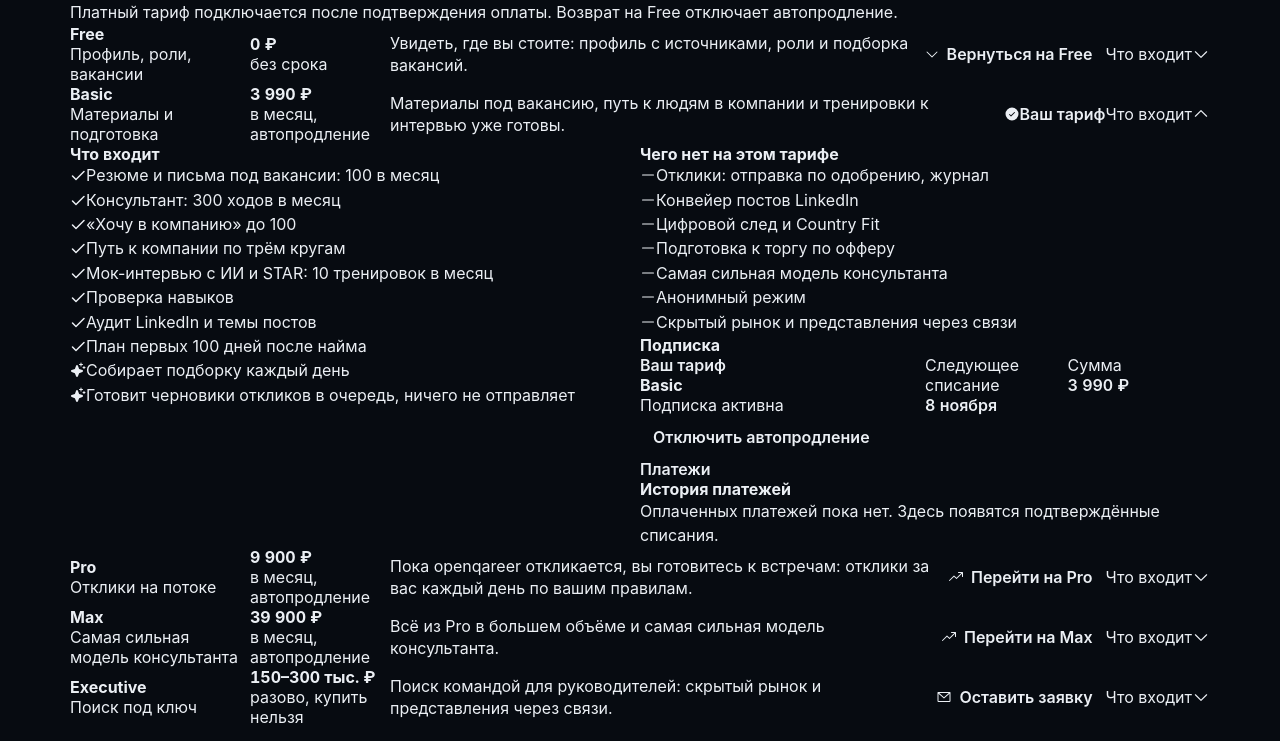
it: TariffsScreen billing management › offers one-click cancellation and keeps access through the paid period
The width and height of the screenshot is (1280, 741).
Step 1. Click the button "Отключить автопродление" → point(761, 437), box [640,415,883,459]
(page scrolled)
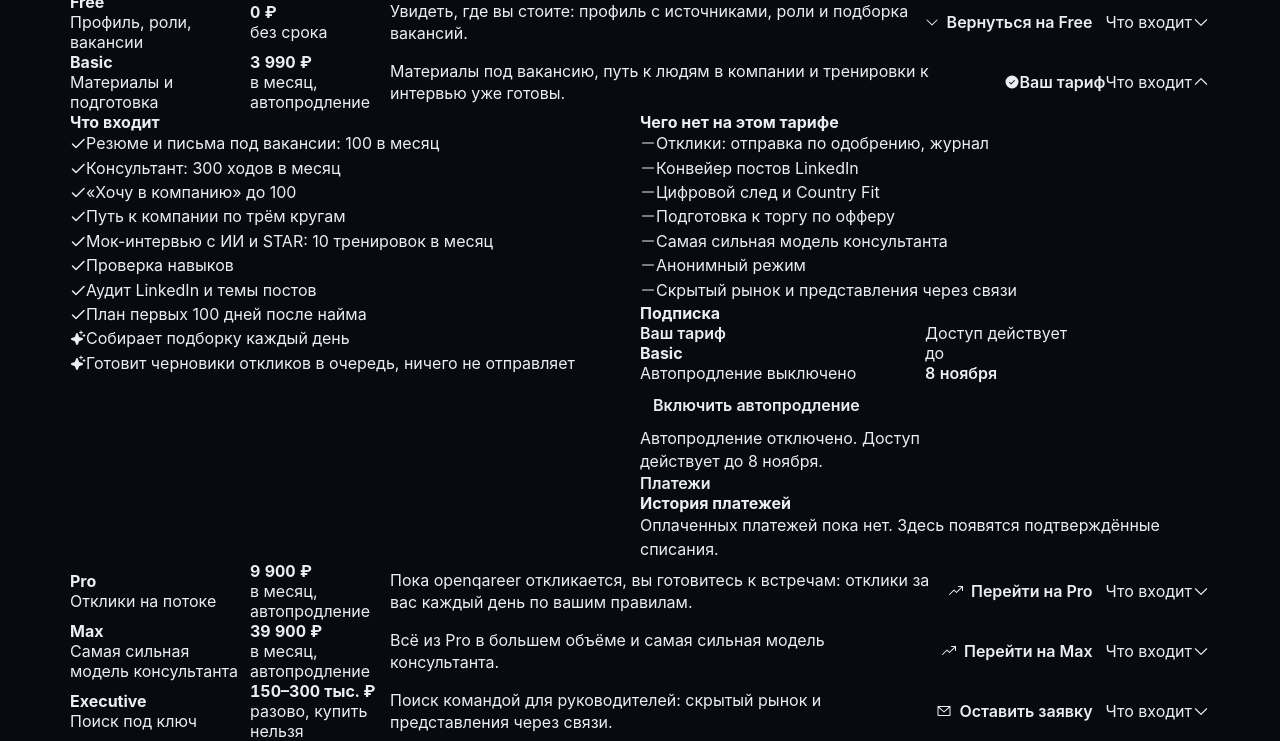
Result: the text with class "career-tariffs-desktop" no longer shows "Следующее списание"
